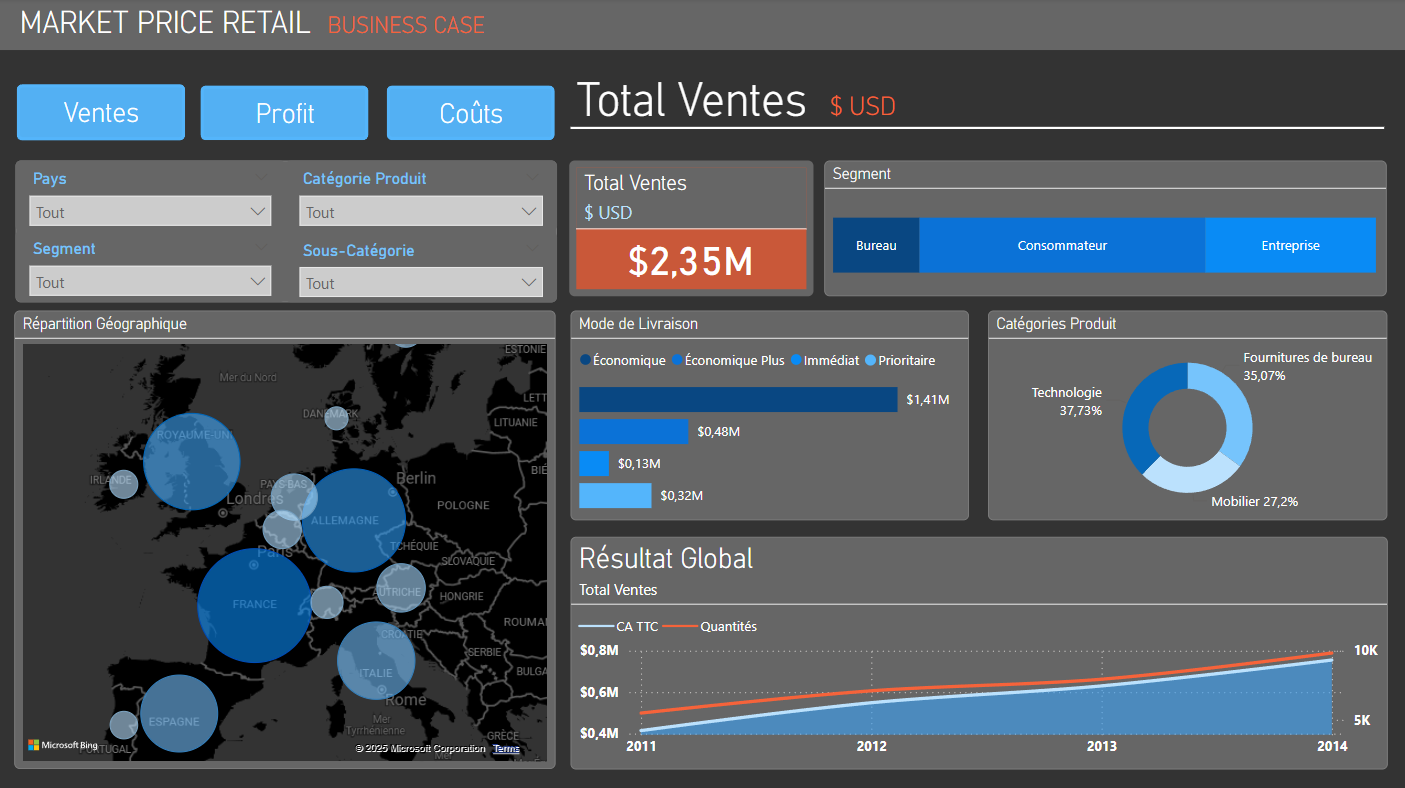

The dashboard page shown, as its layout file describes it:
{"tool":"powerbi","page":{"name":"Vue Globale","canvas":[1280,720],"ordinal":0},"visuals":[{"type":"shape","box":[16,147,491,129],"z":0},{"type":"clusteredBarChart","title":"Mode de Livraison","fields":{"Series":["Market_retail_nettoye.Mode Livraison"],"Y":["Sum(Market_retail_nettoye.CA TTC)"]},"box":[520,283.8,361.2,190],"z":0,"group":"g1"},{"type":"shape","box":[0,0,1280,47.5],"z":1000},{"type":"donutChart","title":"Catégories Produit","fields":{"Y":["Sum(Market_retail_nettoye.CA TTC)"],"Category":["Market_retail_nettoye.Catégorie"]},"box":[898.8,283.8,362.5,190],"z":1000,"group":"g1"},{"type":"slicer","fields":{"Values":["Market_retail_nettoye.Pays"]},"box":[16,147,245,64],"z":2000},{"type":"shape","box":[520,98.6,741.4,38.6],"z":3000},{"type":"textbox","box":[14.5,0,445.6,47.7],"z":4000},{"type":"slicer","fields":{"Values":["Market_retail_nettoye.Segment"]},"box":[16,211,245,65],"z":5000},{"type":"slicer","fields":{"Values":["Market_retail_nettoye.Catégorie"]},"box":[261,147,246,64],"z":6000},{"type":"slicer","fields":{"Values":["Market_retail_nettoye.Sous-Catégorie"]},"box":[261,212,246,64],"z":7000},{"type":"actionButton","box":[17,78.3,153.1,51],"z":8000},{"type":"actionButton","box":[183.7,79.4,153.1,49.9],"z":9000},{"type":"actionButton","box":[352.7,79.4,153.1,49.9],"z":10000},{"type":"map","title":"Répartition Géographique","fields":{"Category":["Market_retail_nettoye.Pays"],"Size":["Sum(Market_retail_nettoye.Ventes)"]},"box":[15,283.8,491.2,416.2],"z":11000},{"type":"areaChart","title":"Résultat Global","fields":{"Category":["Date.Année"],"Y":["Sum(Market_retail_nettoye.CA TTC)"],"Y2":["Sum(Market_retail_nettoye.Quantité)"]},"box":[520,488.8,741.2,211.2],"z":12000},{"type":"card","title":"Total Ventes","fields":{"Values":["Sum(Market_retail_nettoye.CA TTC)"]},"box":[518.6,147.1,221.4,122.9],"z":13000},{"type":"group","id":"g1","title":"Groupe 2","box":[520,283.8,741.2,190],"z":14000},{"type":"textbox","title":"Ventes","box":[520,67.1,264.3,45.7],"z":15000},{"type":"hundredPercentStackedBarChart","title":"Segment","fields":{"Y":["Sum(Market_retail_nettoye.CA TTC)"],"Series":["Market_retail_nettoye.Segment"]},"box":[750,147.1,510,122.9],"z":16000},{"type":"textbox","title":"$ USD","box":[661.5,84.9,176.9,26.5],"z":17000},{"type":"actionButton","title":"Vtes appuyé","box":[16.6,77.7,154.4,51.8],"z":31000}]}

Visuals, with their boxes in screenshot pixels (x1, y1, x2, y2), scaled from the page's 1280x720 canvas onto the 1405x788 screenshot:
shape: bbox=(18, 161, 557, 302)
"Mode de Livraison" clusteredBarChart: bbox=(571, 311, 967, 519)
shape: bbox=(0, 0, 1404, 52)
"Catégories Produit" donutChart: bbox=(987, 311, 1384, 519)
slicer - Market_retail_nettoye.Pays: bbox=(18, 161, 286, 231)
shape: bbox=(571, 108, 1385, 150)
textbox: bbox=(16, 0, 505, 52)
slicer - Market_retail_nettoye.Segment: bbox=(18, 231, 286, 302)
slicer - Market_retail_nettoye.Catégorie: bbox=(286, 161, 557, 231)
slicer - Market_retail_nettoye.Sous-Catégorie: bbox=(286, 232, 557, 302)
actionButton: bbox=(19, 86, 187, 142)
actionButton: bbox=(202, 87, 370, 142)
actionButton: bbox=(387, 87, 555, 142)
"Répartition Géographique" map: bbox=(16, 311, 556, 766)
"Résultat Global" areaChart: bbox=(571, 535, 1384, 766)
"Total Ventes" card: bbox=(569, 161, 812, 296)
"Groupe 2" group: bbox=(571, 311, 1384, 519)
"Ventes" textbox: bbox=(571, 73, 861, 123)
"Segment" hundredPercentStackedBarChart: bbox=(823, 161, 1383, 296)
"$ USD" textbox: bbox=(726, 93, 920, 122)
"Vtes appuyé" actionButton: bbox=(18, 85, 188, 142)
